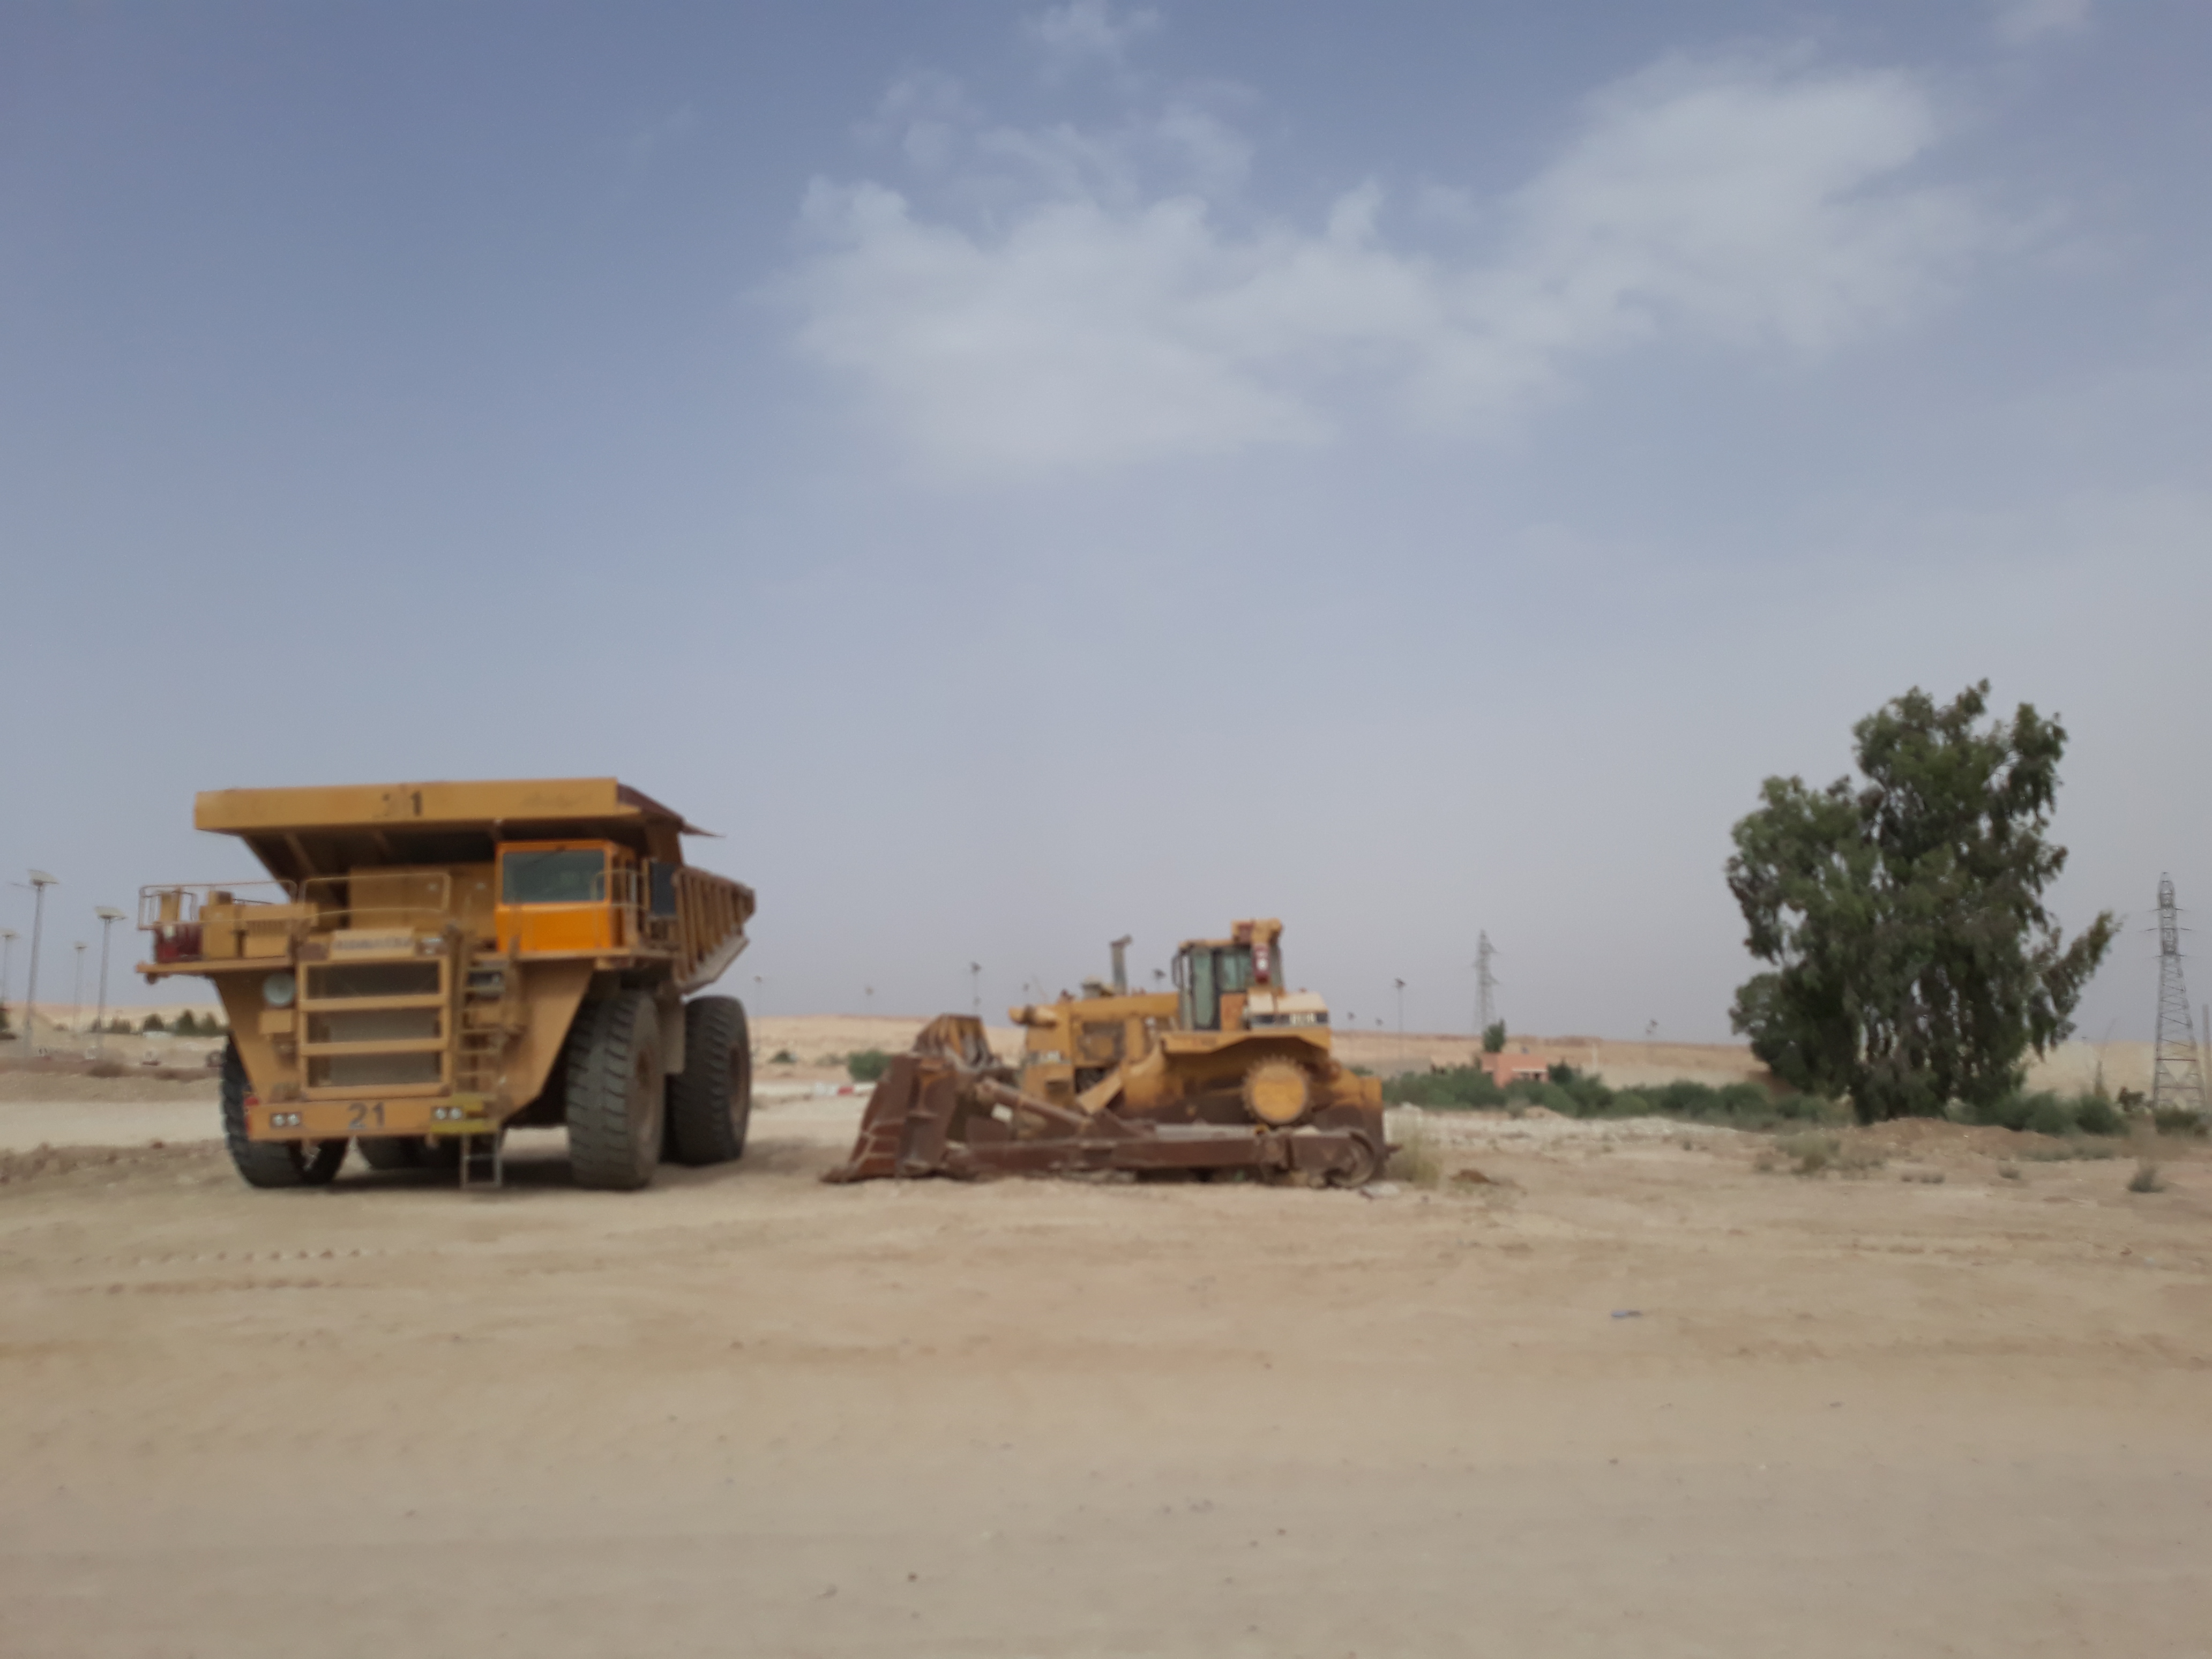bulldozer: (831, 897, 1423, 1216)
camion: (129, 767, 775, 1220)
